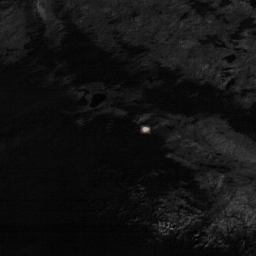Target: (140, 124, 150, 133)
